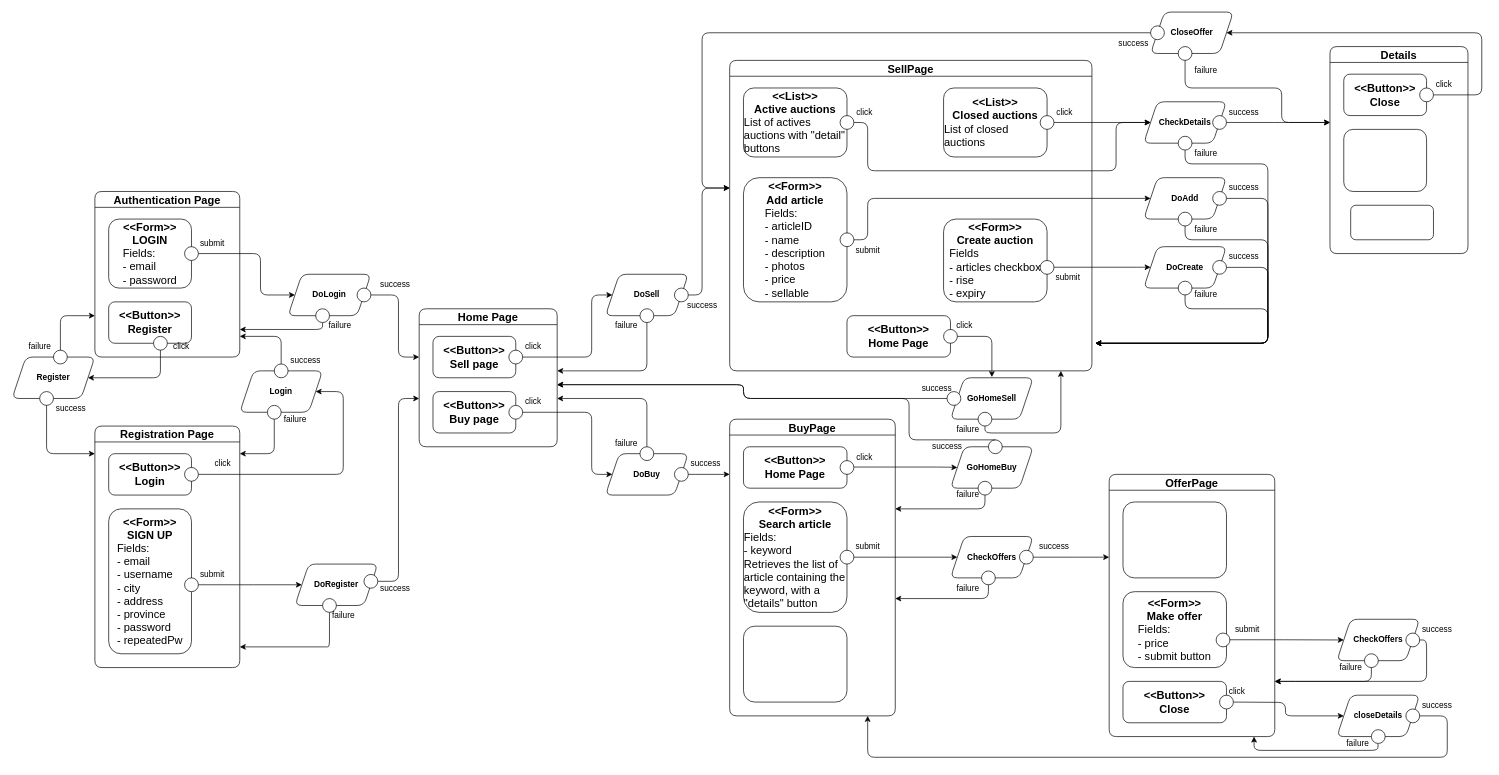
Some shapes in this 1499 by 775 pixel diagram are drawn without their labels. The centre of each missing label's shape, as x and y in pixels:
<<List>> Articles won Fields: - articles data - final price: point (795, 663)
<<List>> Auction's offer Fields: - articles data - final price: point (1174, 539)
<<List>> Fields - auction details - offers' list: point (1385, 160)
Winner: point (1391, 222)
